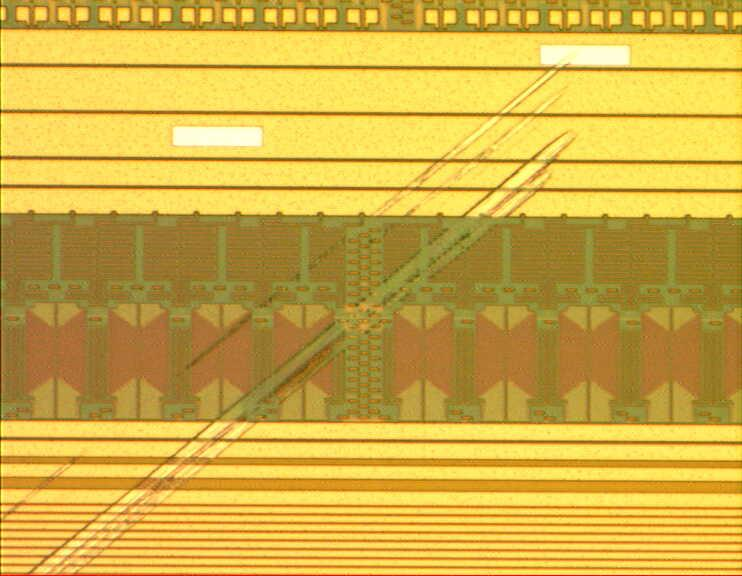SCRATCH: (2, 53, 586, 576)
